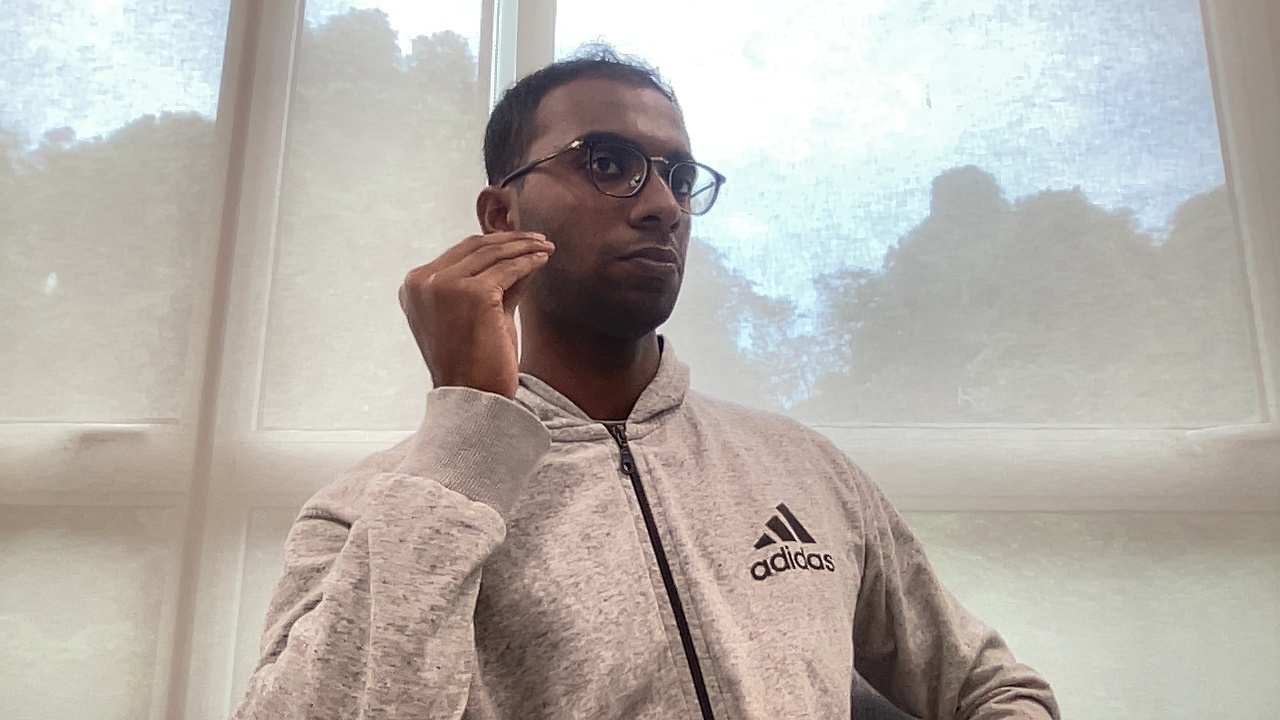eat: (390, 224, 560, 384)
